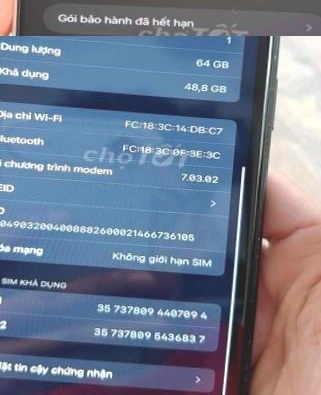scratch: (238, 136, 283, 299), (246, 36, 291, 145)
